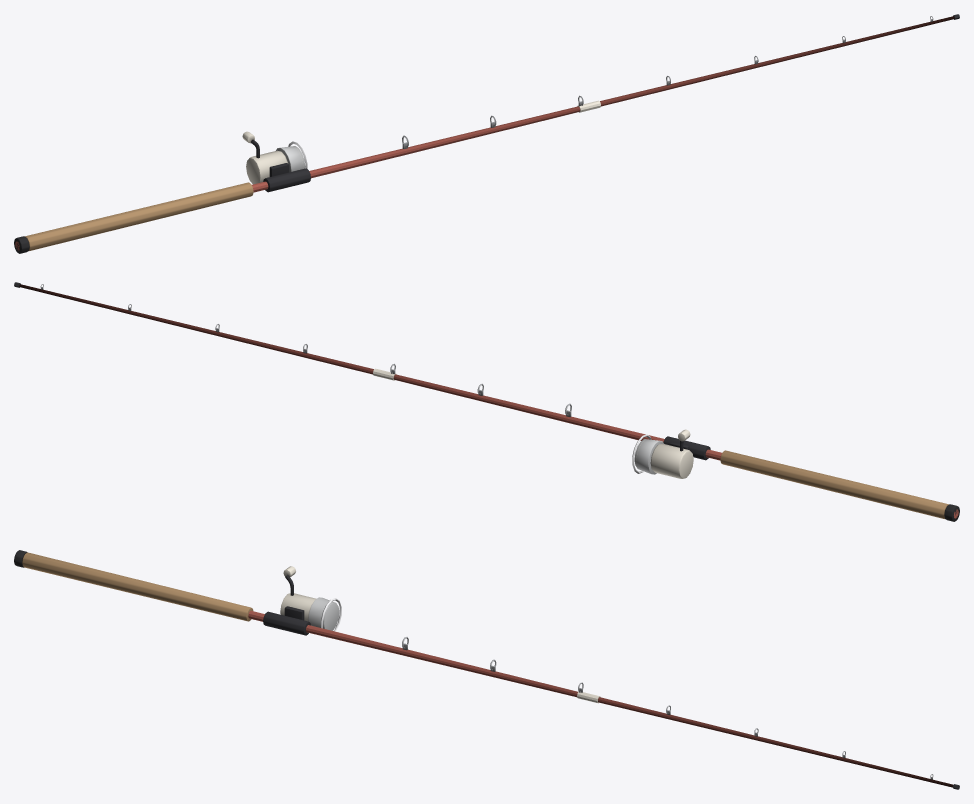
File: rod_surf.glb
3 renders of one model, top to bottom at view 1: azimuth 30°, elevation 25°; view 2: azimuth 150°, elevation 25°; view 3: azimuth 330°, elevation 25°, orthographic.
Visible parts, largest first — view 1: PART; view 2: PART; view 3: PART.
Part boxes in pixels (x1,y1,x2,y2): PART: (14,14,959,253); PART: (14,282,959,521); PART: (14,550,959,789).
Bounding box in the file's own units: 2.31 × 0.1284 × 0.1321.
